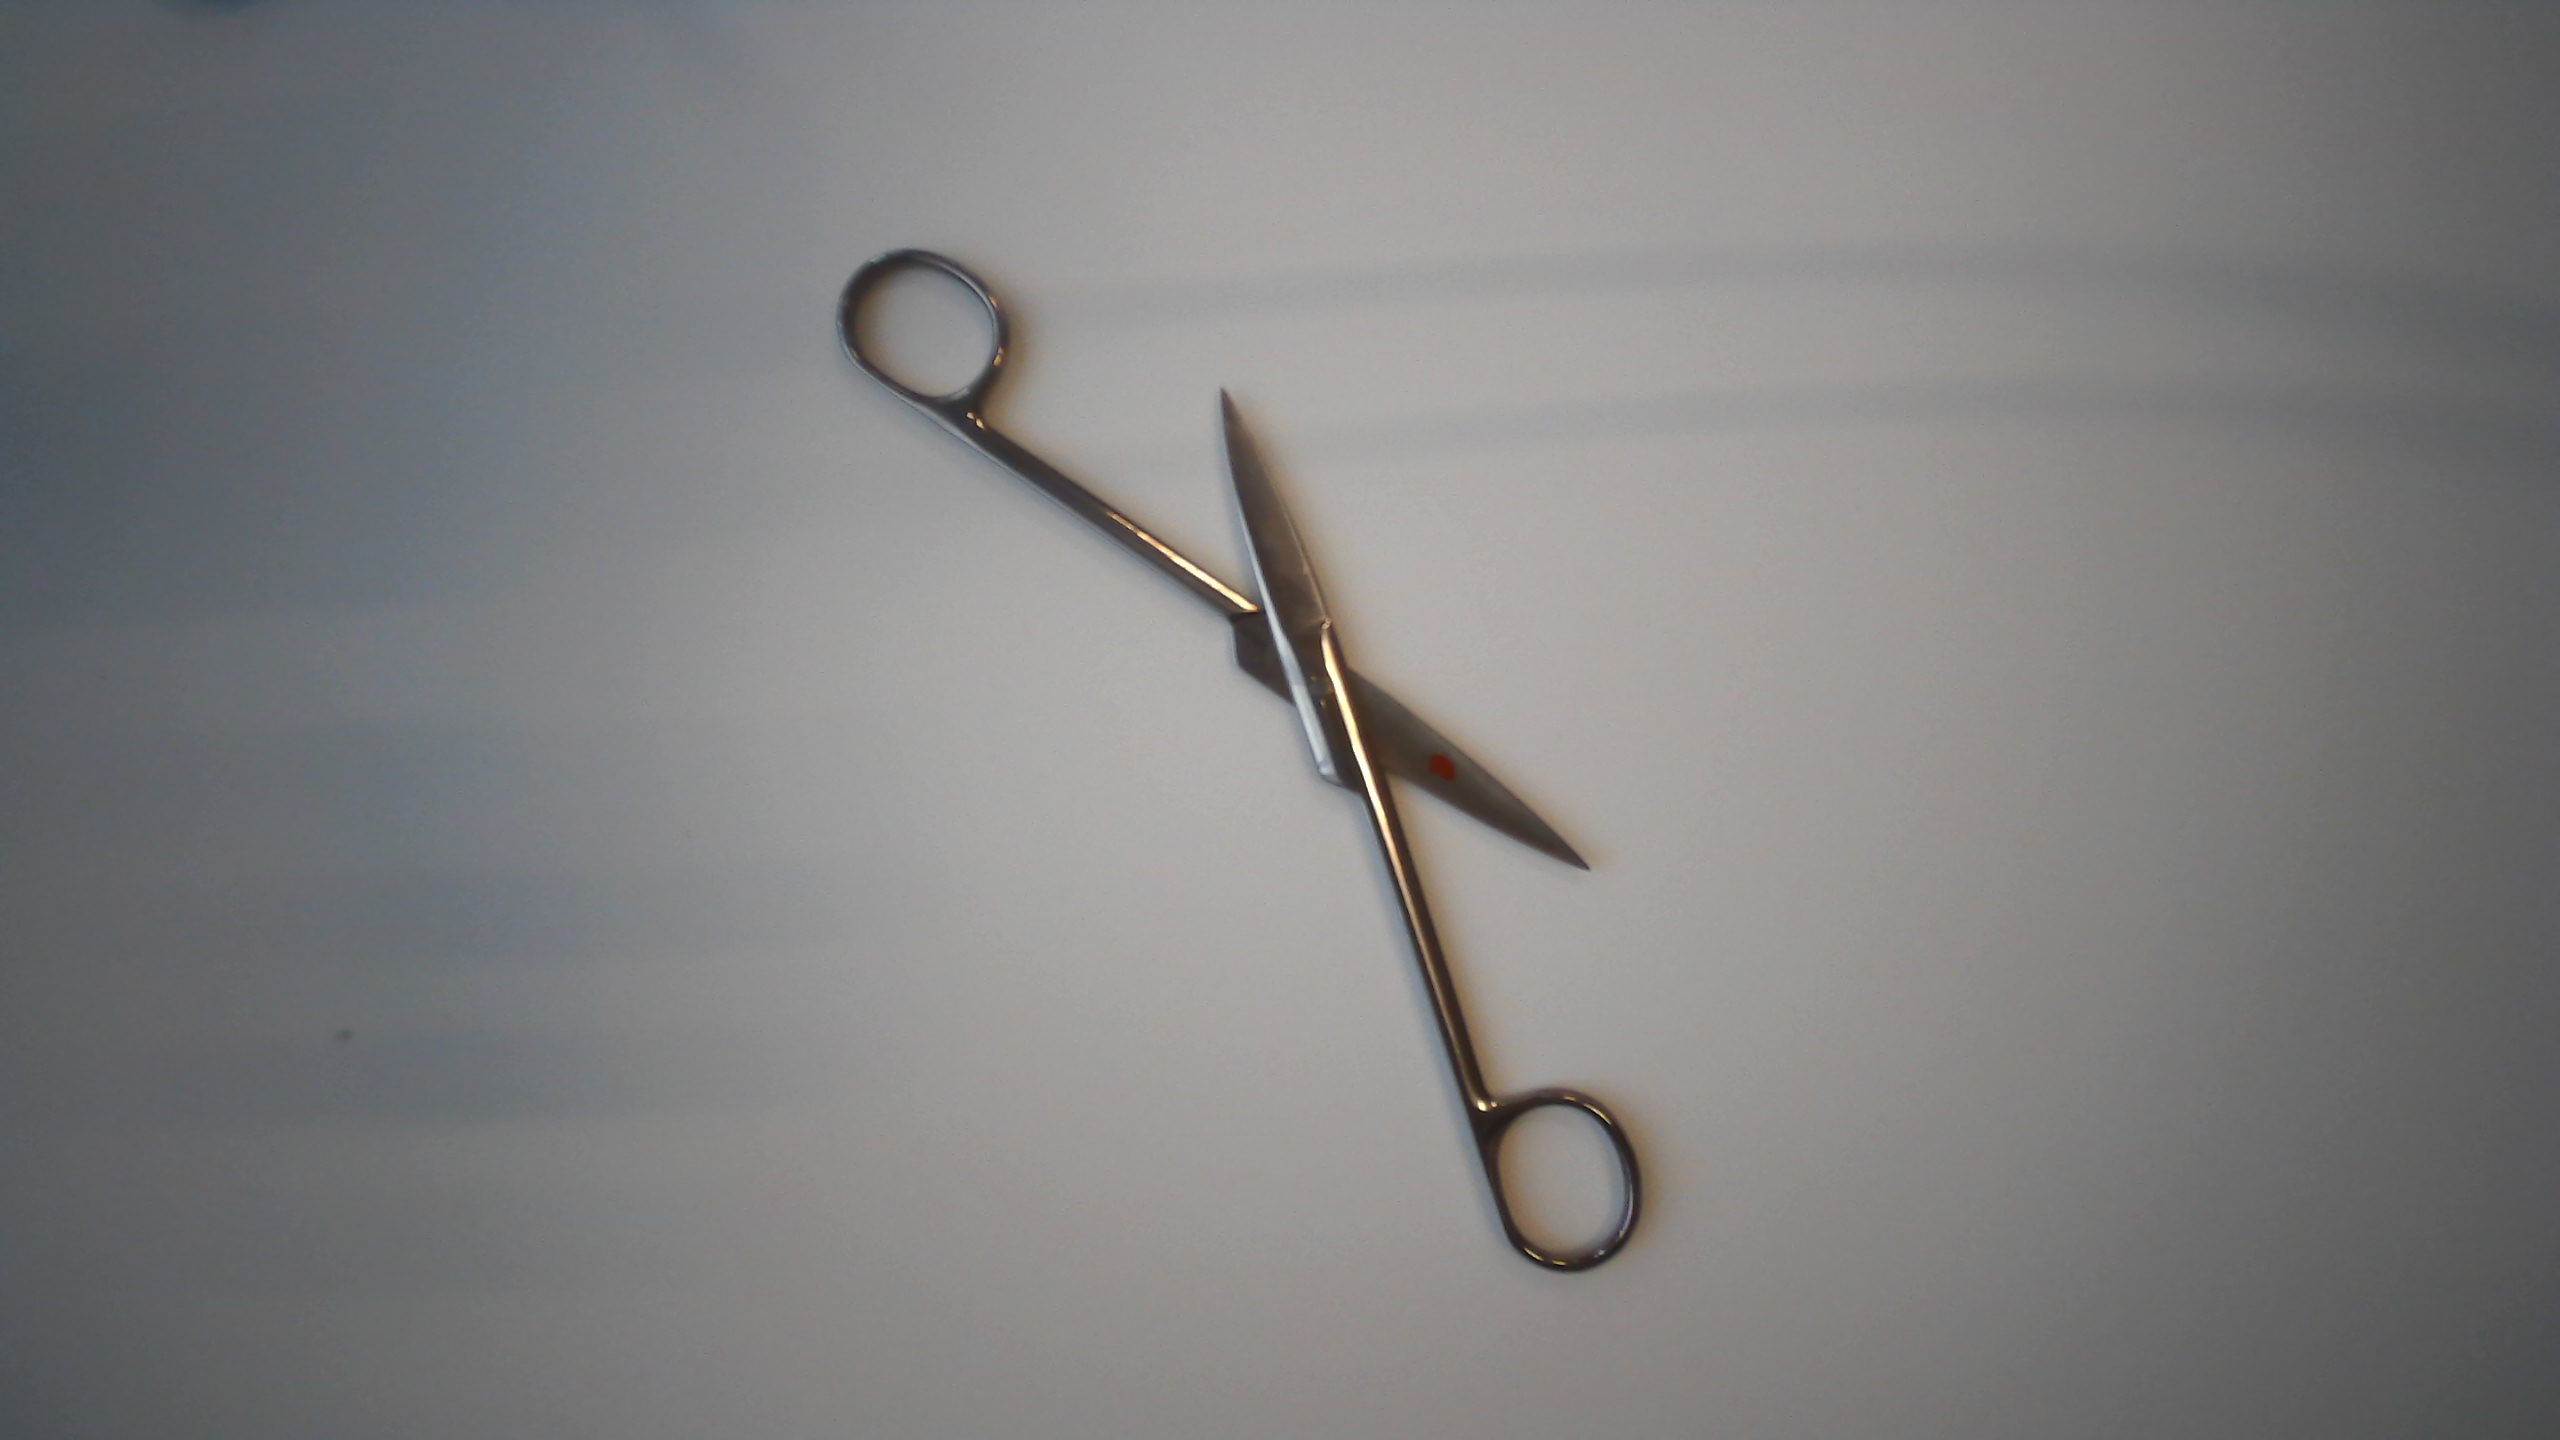Stain: (1422, 740, 1468, 798)
